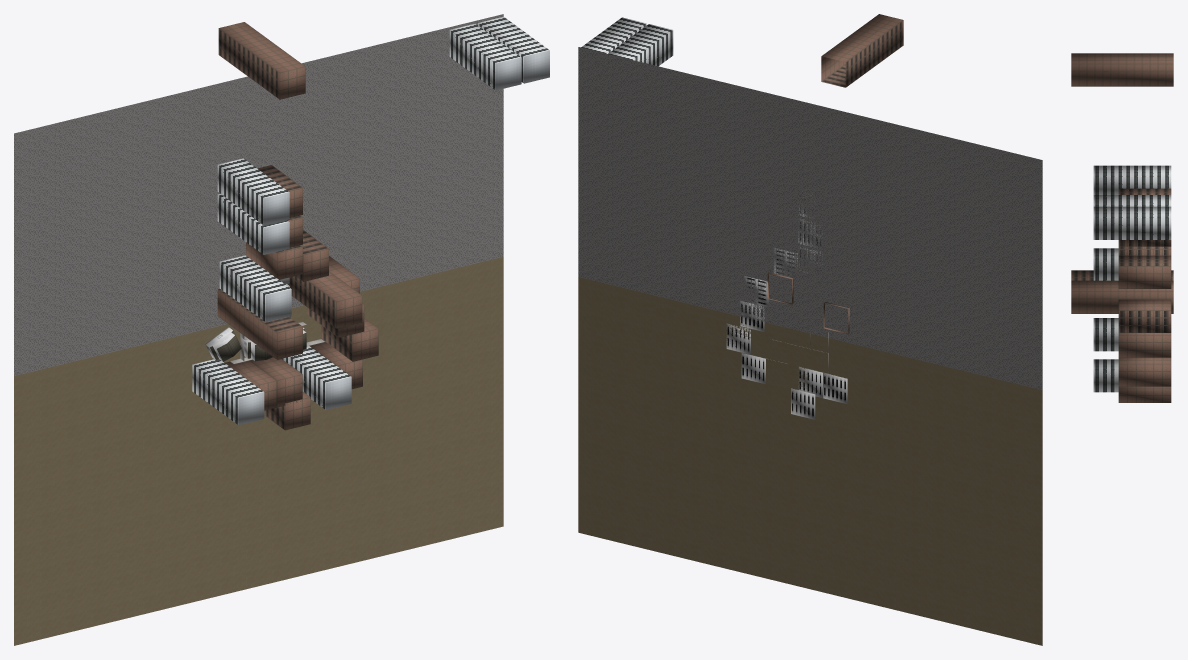
Rendered from stage-1-3.fbx.
3 renders of one model, left to right at view 1: azimuth 30°, elevation 25°; view 2: azimuth 150°, elevation 25°; view 3: azimuth 270°, elevation 25°, orthographic. The views are drawn at different scales.
Parts seen in each view (by area): view 1: Ground_001; view 2: Ground_001; view 3: Ground_001.
Part boxes in pixels (x1,y1,x2,y2): Ground_001: [14, 14, 549, 645]; Ground_001: [578, 14, 1042, 645]; Ground_001: [1071, 53, 1173, 402].
Size of the model in its own units: 190 by 210 by 41.
13 materials, 13 textured.
